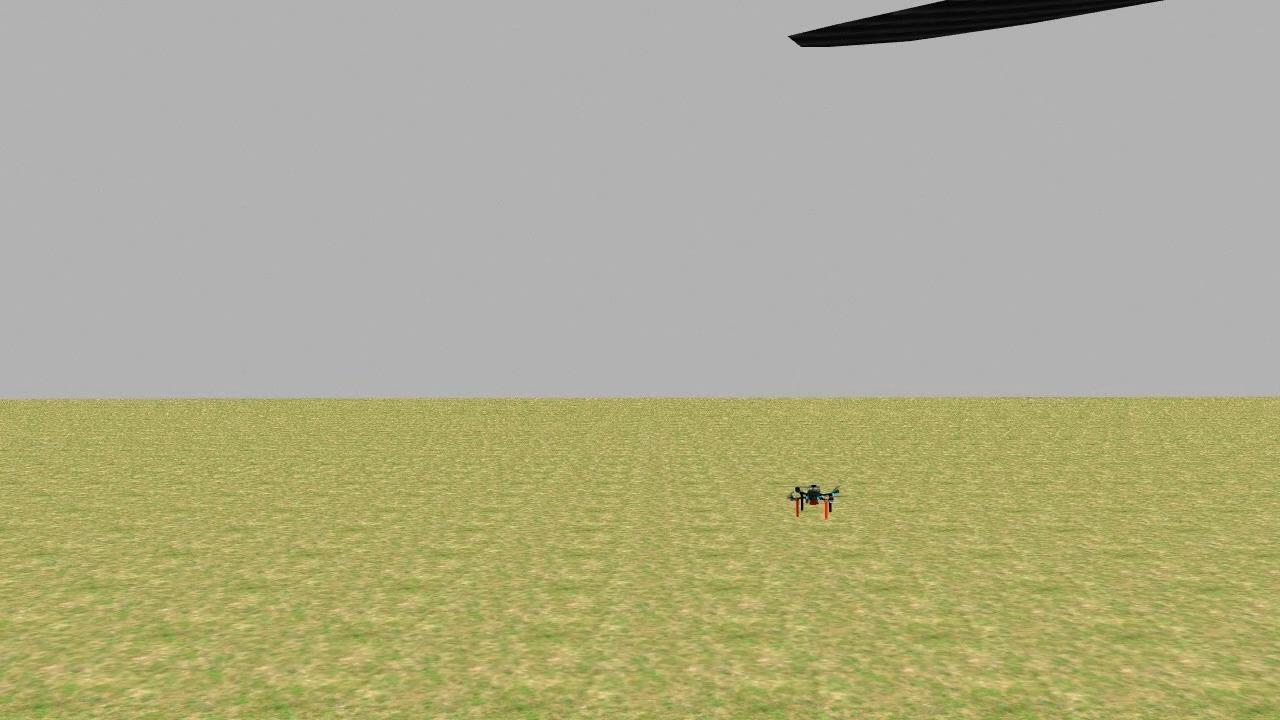UAV: (761, 463, 869, 538)
